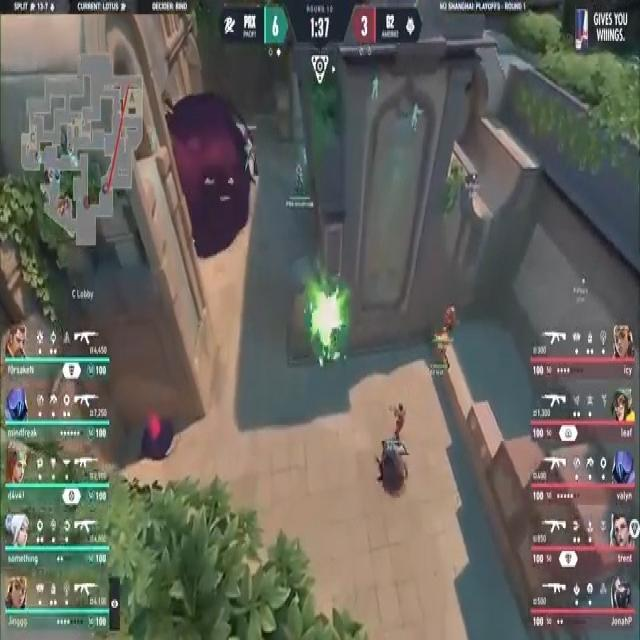ally: (295, 165, 304, 191)
enemy: (436, 329, 452, 373), (392, 400, 406, 444), (445, 308, 456, 335)
smoke: (158, 90, 257, 258)
